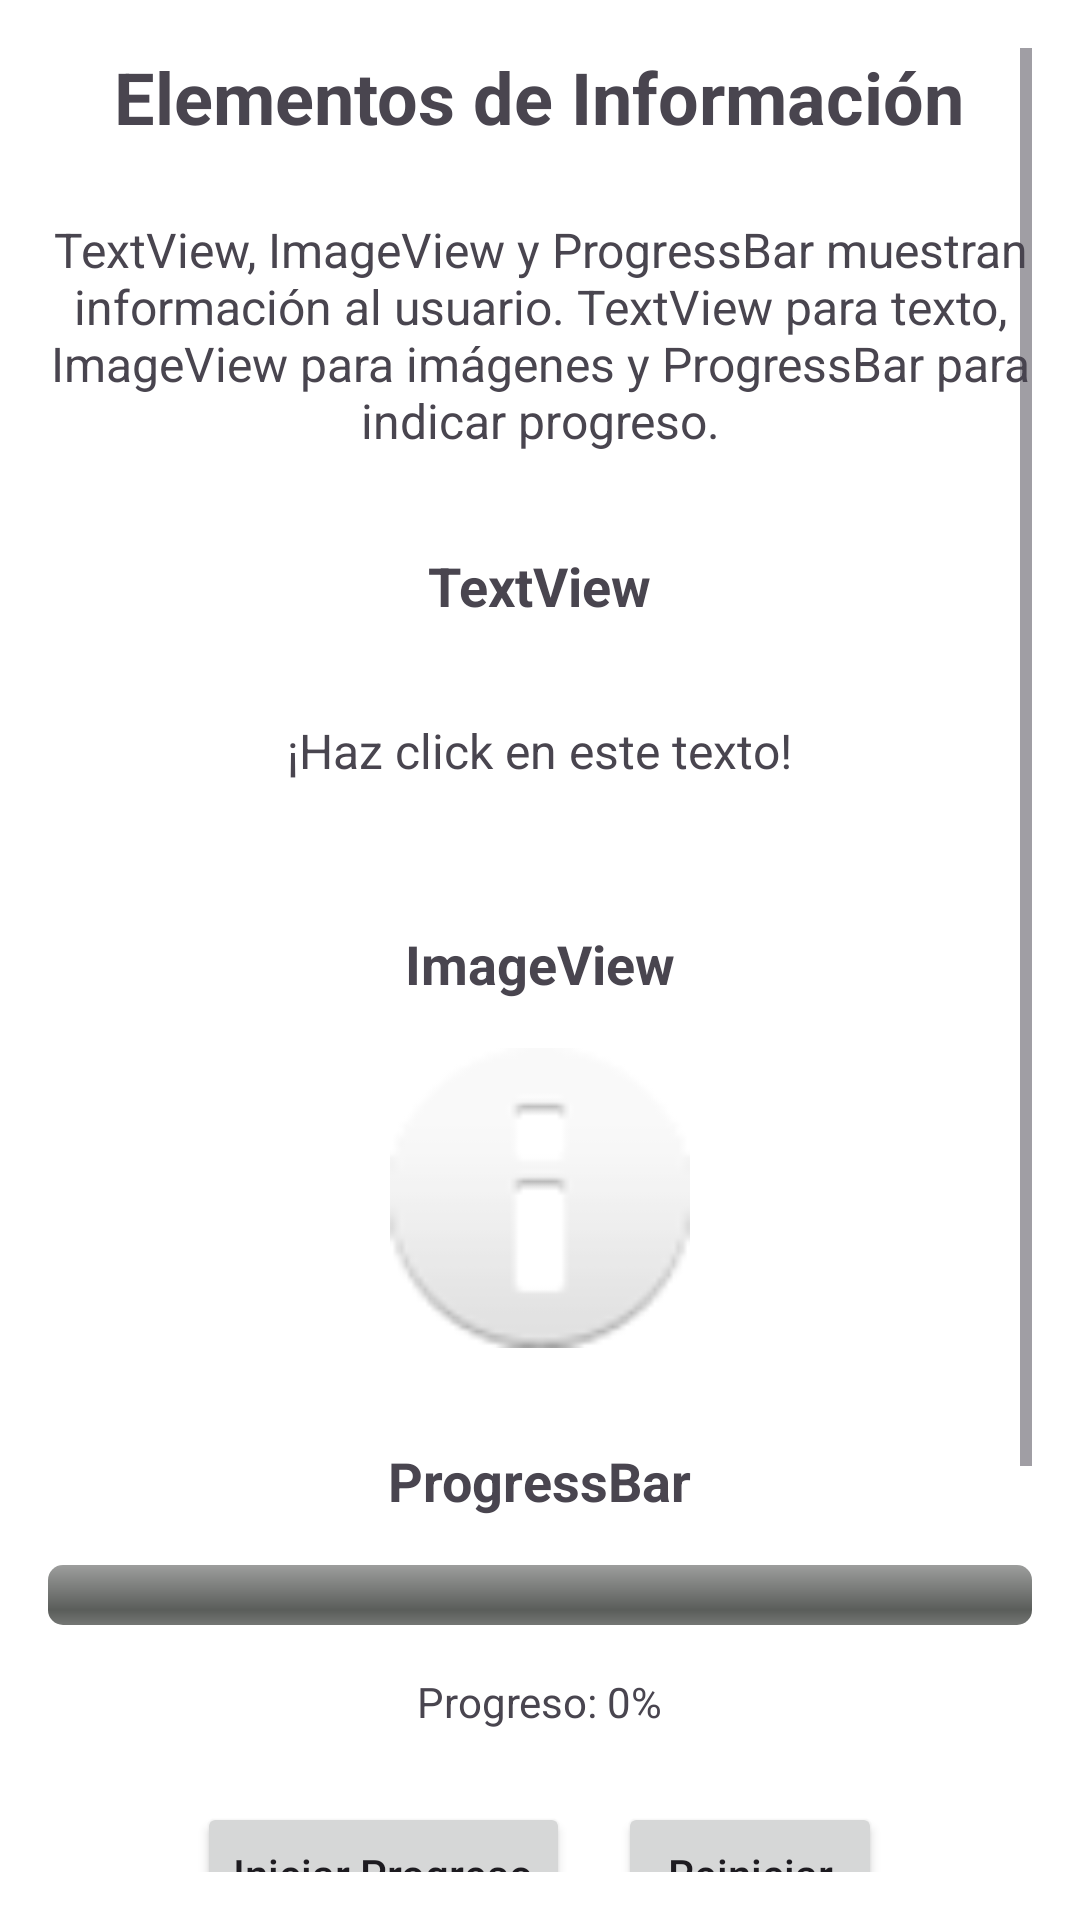

Named icons in this screenshot (1080×1920) and their centers, (x=x, y=y):
Imagen de información: (x=540, y=1225)
